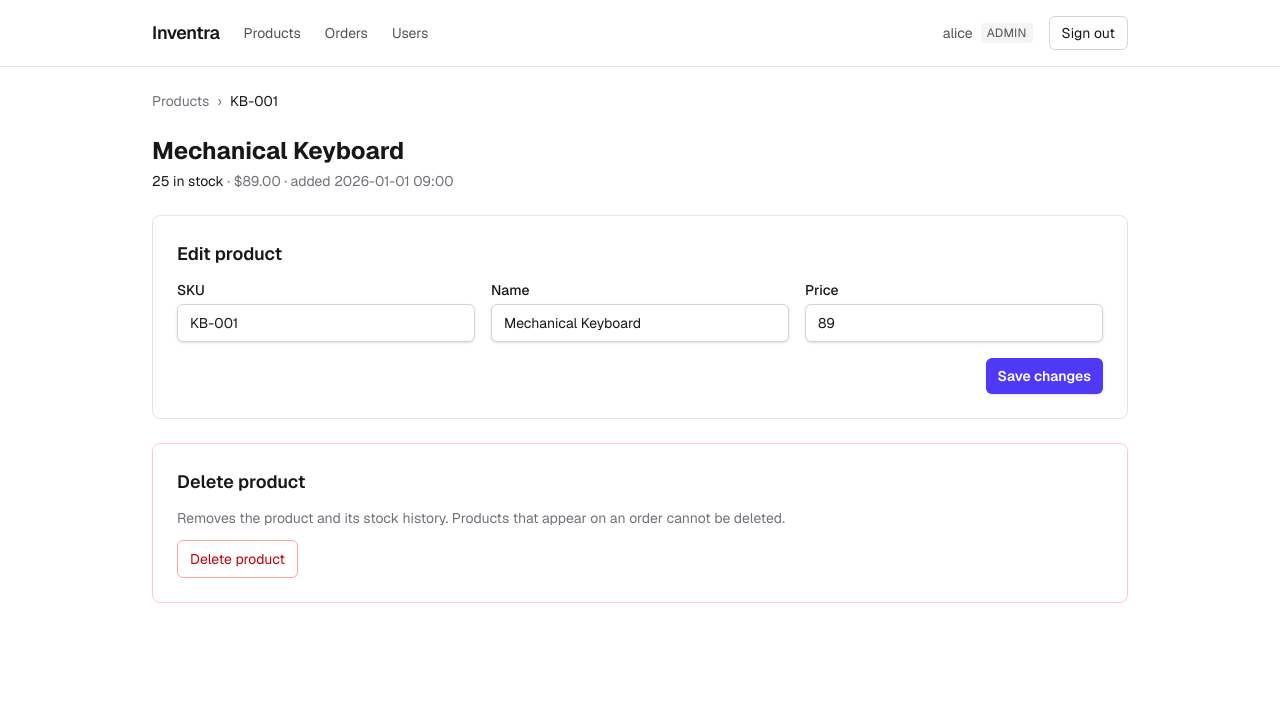
Test: ProductDetail › explains why an ordered product cannot be deleted
Click the button "Delete product". click: (237, 559)
box: [177,540,298,578]
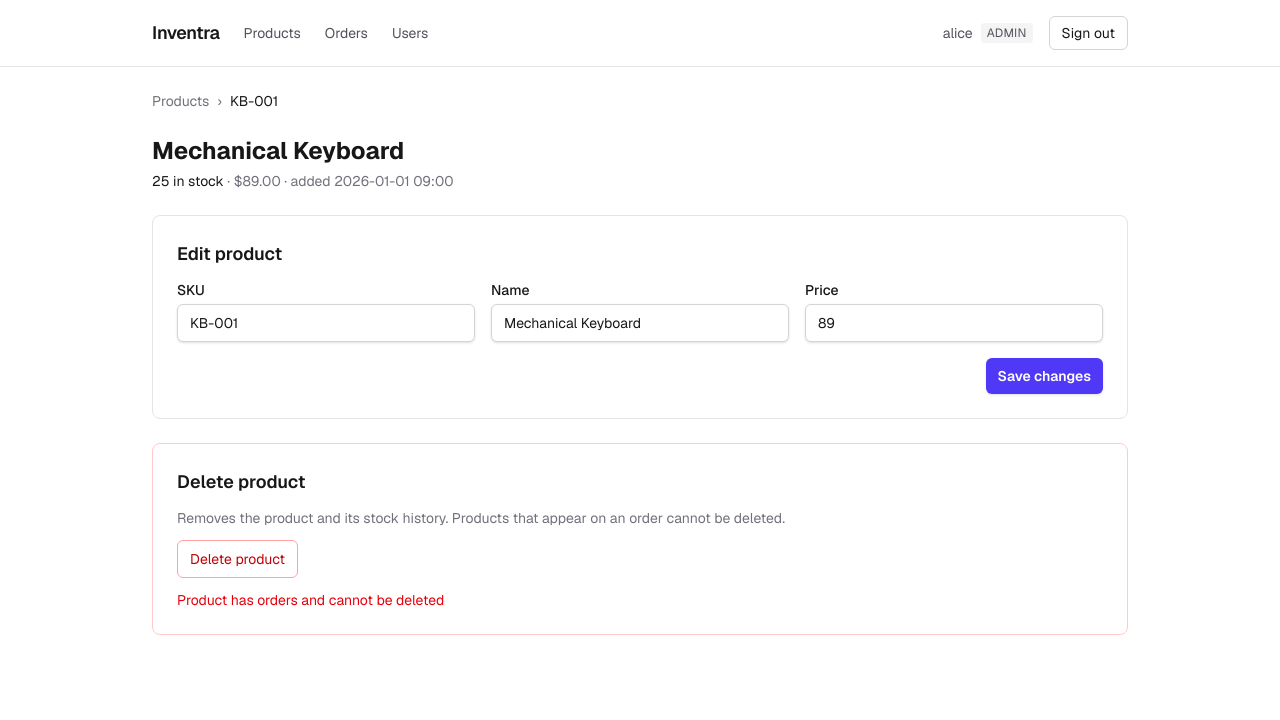
Expected: the message reads "Product has orders and cannot be deleted", [177,591,444,609]
